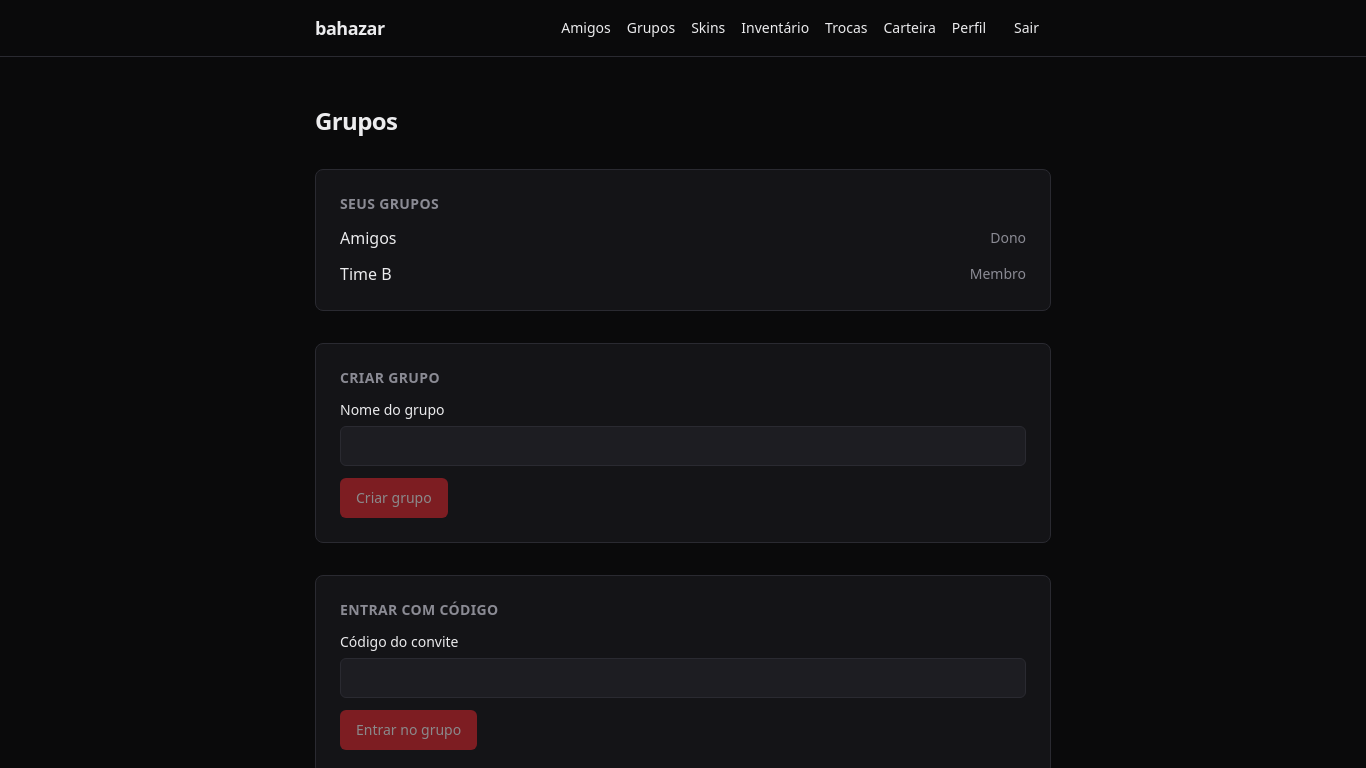
it: RoomsPage › cria o grupo (nome sem espaços nas pontas, com CSRF) e leva ao detalhe dele
The image size is (1366, 768).
Expected: the heading "Grupos" is shown, [315,104,397,137]
Expected: the link "Amigos" in the row of "Dono" is shown, [340,226,396,250]
Type "  Novo " into the field labelled "Nome do grupo" at (683, 446), box [340,426,1026,466]
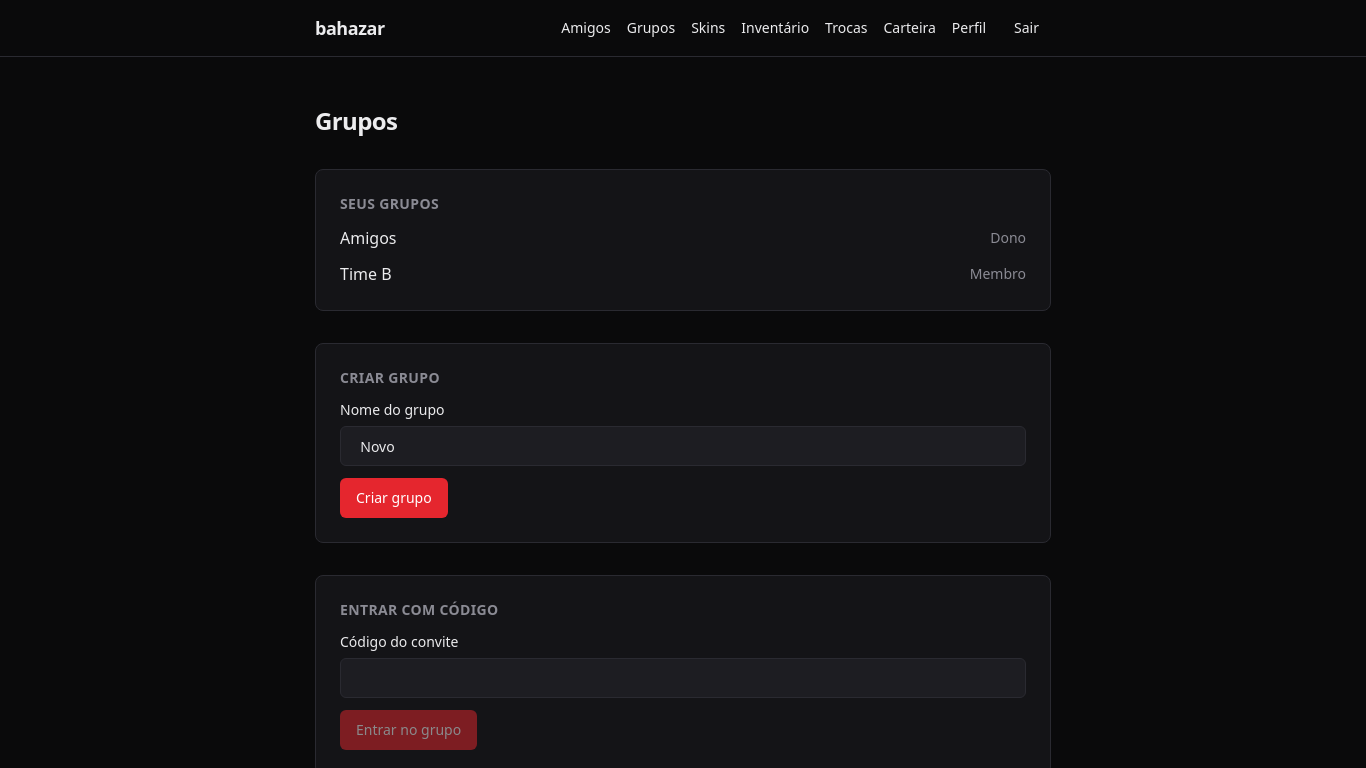
Click the button "Criar grupo" at (394, 498), box [340,478,448,518]
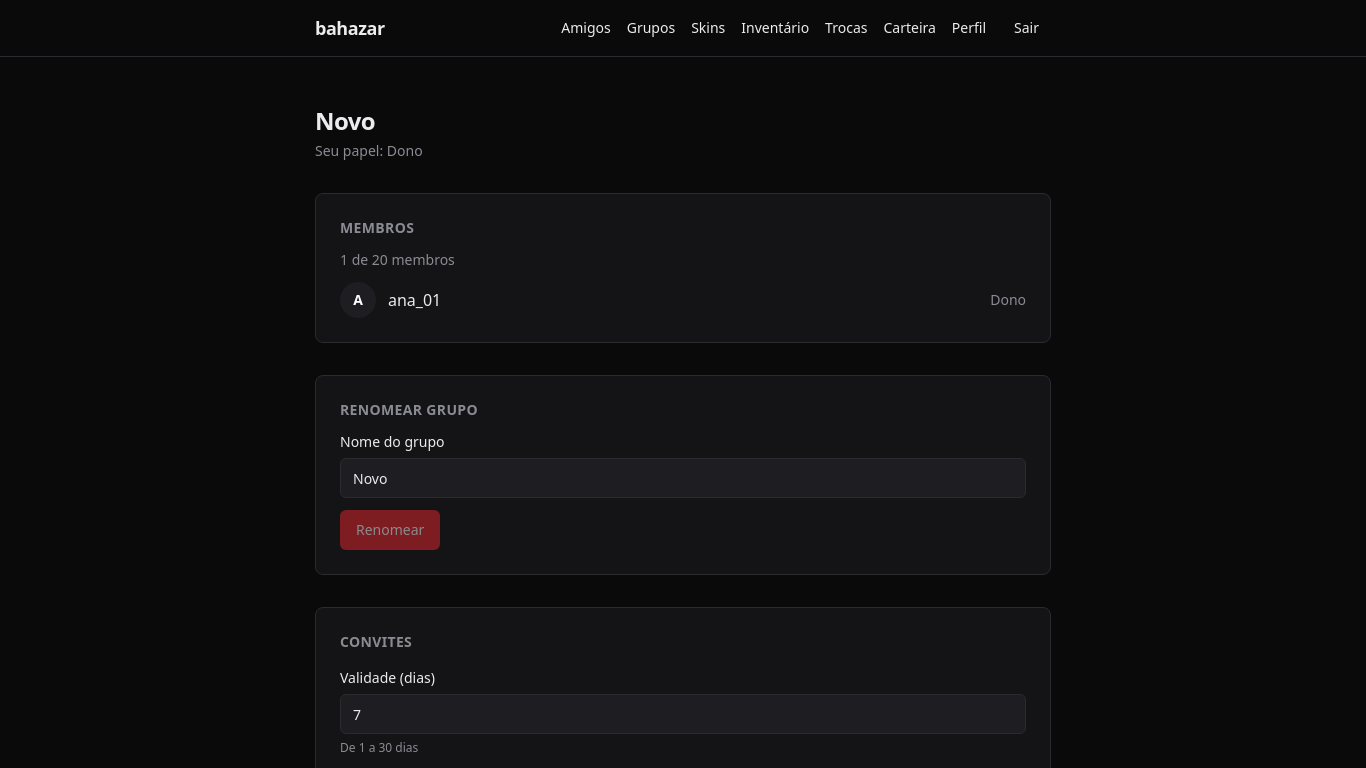
Expected: the heading "Novo" is shown, [315,104,375,137]
